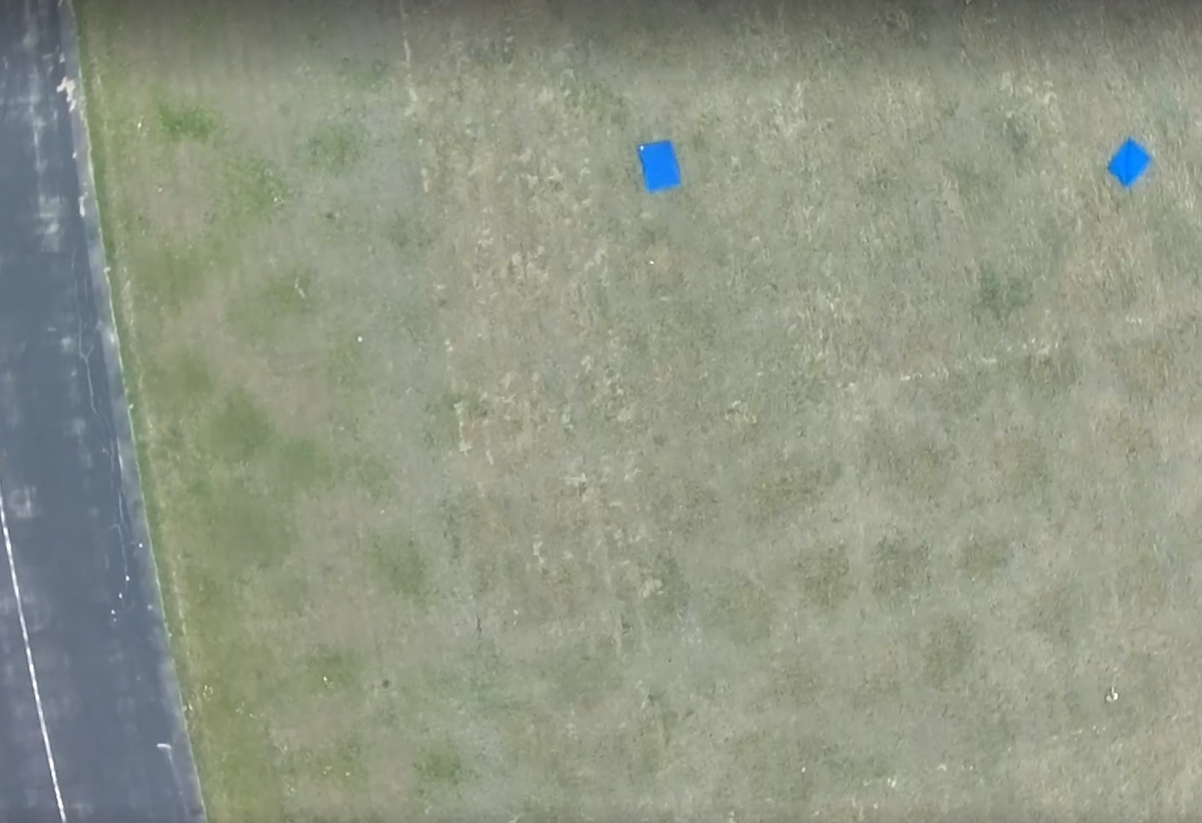TOI: (635, 138, 684, 194), (1105, 134, 1152, 189)
